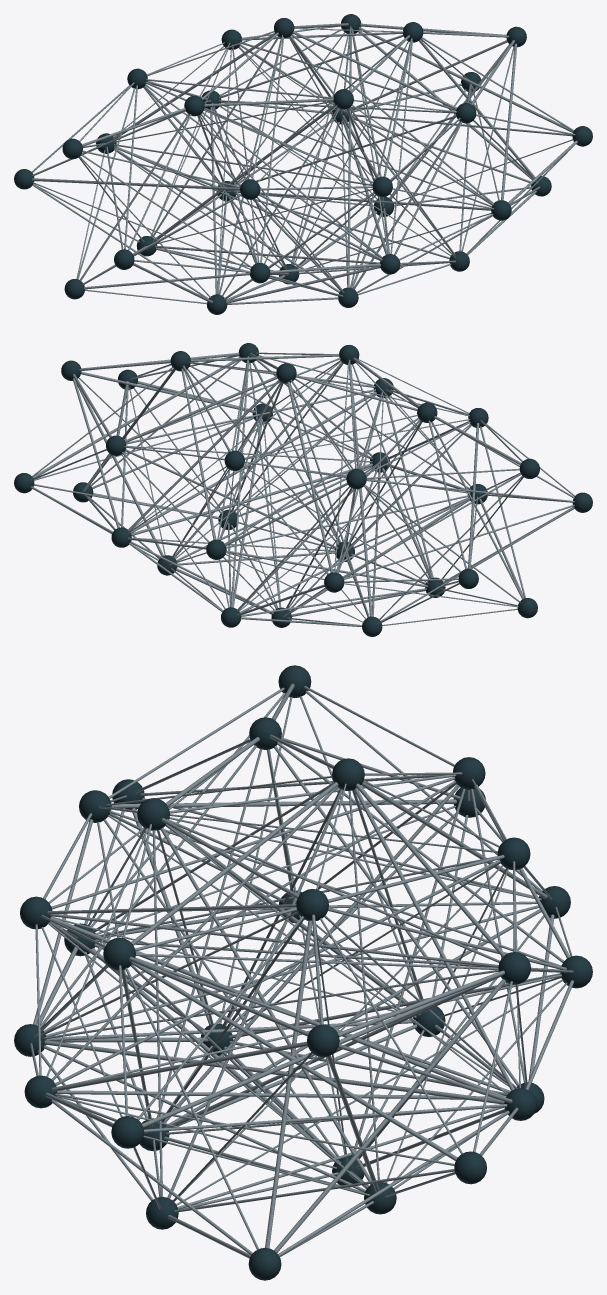
File: neural-net.glb
3 renders of one model, top to bottom at view 1: azimuth 30°, elevation 25°; view 2: azimuth 150°, elevation 25°; view 3: azimuth 270°, elevation 25°, orthographic. The views are drawn at different scales.
Visible parts, largest first — view 1: Edge_3_6_1, Edge_1_5_2, Edge_0_0_2, Edge_2_0_2, Edge_1_6_5, Edge_2_7_2, Edge_1_0_5, Edge_2_1_1, Edge_2_1_2, Edge_1_6_4, Edge_3_6_2, Edge_1_5_4 (+37 smaller); view 2: Edge_2_3_5, Edge_2_4_5, Edge_3_1_3, Edge_1_5_2, Edge_1_6_1, Edge_1_3_7, Edge_2_2_4, Edge_2_5_6, Edge_2_1_5, Edge_2_3_6, Edge_2_1_6, Edge_1_5_1 (+36 smaller); view 3: Edge_2_4_5, Edge_3_1_3, Edge_2_3_5, Edge_3_6_2, Edge_3_6_1, Edge_2_0_2, Edge_3_0_2, Edge_2_3_6, Edge_2_7_2, Edge_2_1_5, Edge_2_2_4, Edge_1_0_5 (+73 smaller).
Boxes of the visible parts, left/top/right/bottom form: Edge_3_6_1: left=358, top=27, right=573, bottom=132; Edge_1_5_2: left=152, top=104, right=335, bottom=241; Edge_0_0_2: left=32, top=178, right=239, bottom=190; Edge_2_0_2: left=239, top=44, right=492, bottom=205; Edge_1_6_5: left=114, top=148, right=339, bottom=292; Edge_2_7_2: left=234, top=191, right=491, bottom=210; Edge_1_0_5: left=144, top=85, right=340, bottom=290; Edge_2_1_1: left=292, top=31, right=457, bottom=109; Edge_2_1_2: left=291, top=34, right=493, bottom=203; Edge_1_6_4: left=114, top=146, right=380, bottom=260; Edge_3_6_2: left=358, top=31, right=532, bottom=179; Edge_1_5_4: left=155, top=245, right=379, bottom=263; Edge_2_3_5: left=130, top=391, right=376, bottom=533; Edge_2_4_5: left=131, top=463, right=372, bottom=535; Edge_3_1_3: left=33, top=357, right=240, bottom=478; Edge_1_5_2: left=349, top=364, right=372, bottom=616; Edge_1_6_1: left=287, top=381, right=333, bottom=572; Edge_1_3_7: left=240, top=497, right=470, bottom=612; Edge_2_2_4: left=173, top=362, right=342, bottom=558; Edge_2_5_6: left=125, top=449, right=338, bottom=549; Edge_2_1_5: left=128, top=380, right=279, bottom=531; Edge_2_3_6: left=126, top=389, right=375, bottom=444; Edge_2_1_6: left=125, top=376, right=277, bottom=442; Edge_1_5_1: left=290, top=382, right=369, bottom=617; Edge_2_4_5: left=44, top=1040, right=504, bottom=1104; Edge_3_1_3: left=131, top=962, right=457, bottom=1161; Edge_2_3_5: left=50, top=916, right=506, bottom=1097; Edge_3_6_2: left=274, top=979, right=506, bottom=1252; Edge_3_6_1: left=142, top=976, right=501, bottom=1127; Edge_2_0_2: left=55, top=859, right=500, bottom=1085; Edge_3_0_2: left=265, top=920, right=312, bottom=1248; Edge_2_3_6: left=50, top=914, right=498, bottom=967; Edge_2_7_2: left=57, top=1090, right=495, bottom=1099; Edge_2_1_5: left=354, top=788, right=514, bottom=1090; Edge_2_2_4: left=160, top=827, right=372, bottom=1184; Edge_1_0_5: left=163, top=784, right=459, bottom=1122.
Bounding box in the file's own units: 6.14 × 3.26 × 4.05.
